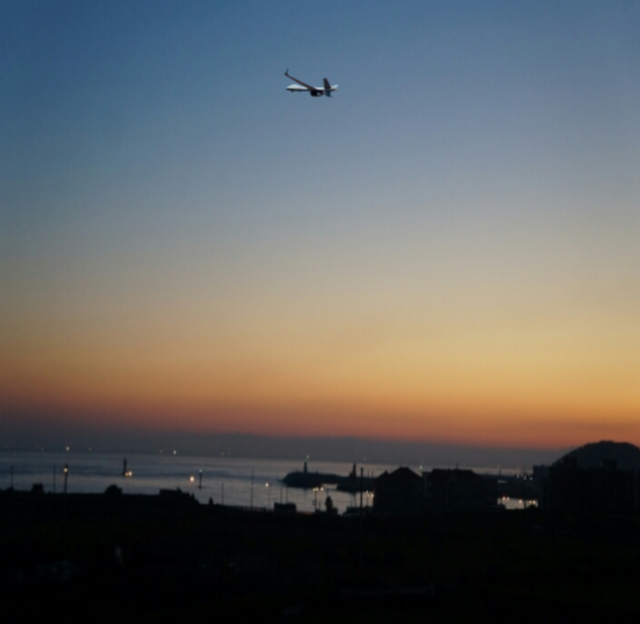military drone: (284, 67, 338, 98)
